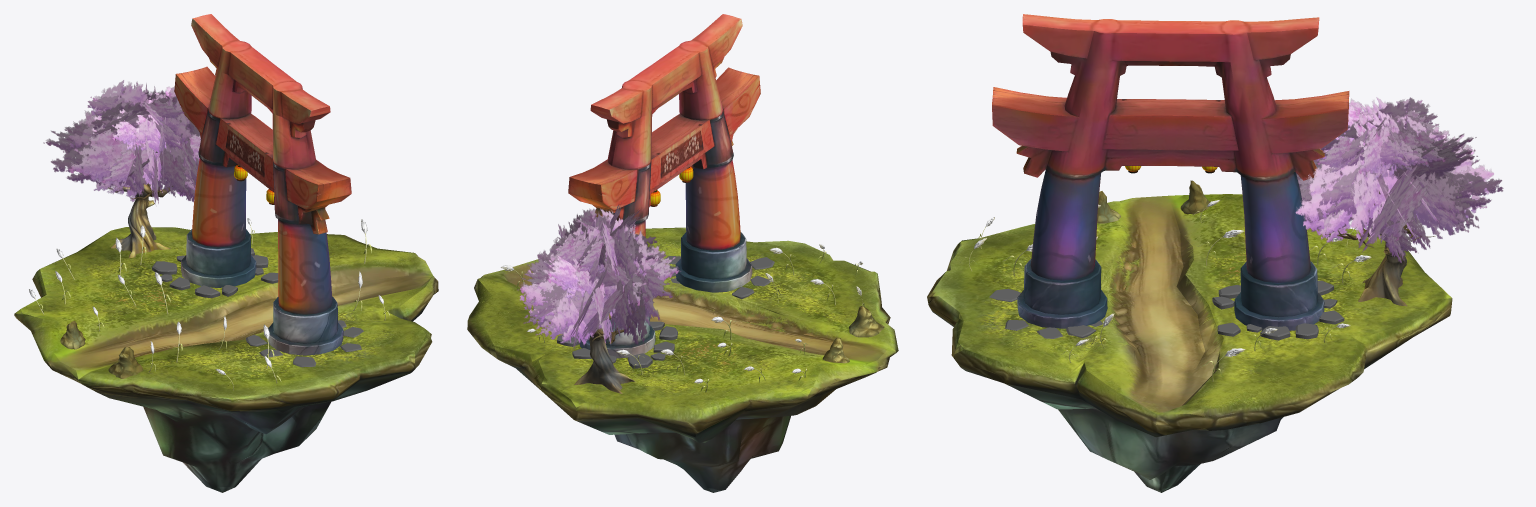
Rendered from island.glb.
3 views of the same model, side by side, from view 1: azimuth 30°, elevation 25°; view 2: azimuth 150°, elevation 25°; view 3: azimuth 270°, elevation 25° (orthographic). The views are drawn at different scales.
Visible parts, largest first — view 1: tierra, portal, lajas, sakuraplano009, sakura, RetopoGroup003, sakuraplano012, sakuraplano036, sakuraplano053, sakuraplano042, sakuraplano050, sakuraplano005 (+5 smaller); view 2: tierra, portal, lajas, sakuraplano066, sakura, sakuraplano040, RetopoGroup003, sakuraplano015, sakuraplano046, sakuraplano014, sakuraplano082, sakuraplano042 (+8 smaller); view 3: tierra, portal, lajas, sakuraplano008, sakura, sakuraplano043, sakuraplano003, sakuraplano054, sakuraplano015, sakuraplano007, sakuraplano044, sakuraplano045 (+10 smaller).
Part boxes in pixels (x1=…): tierra: x1=14, y1=227, x2=438, y2=492; portal: x1=174, y1=14, x2=351, y2=355; lajas: x1=152, y1=248, x2=363, y2=367; sakuraplano009: x1=65, y1=126, x2=150, y2=201; sakura: x1=108, y1=183, x2=172, y2=258; RetopoGroup003: x1=60, y1=321, x2=142, y2=378; sakuraplano012: x1=156, y1=148, x2=189, y2=197; sakuraplano036: x1=100, y1=149, x2=156, y2=187; sakuraplano053: x1=90, y1=80, x2=148, y2=115; sakuraplano042: x1=51, y1=143, x2=113, y2=188; sakuraplano050: x1=160, y1=96, x2=191, y2=146; sakuraplano005: x1=43, y1=121, x2=94, y2=159; tierra: x1=467, y1=227, x2=898, y2=492; portal: x1=568, y1=14, x2=760, y2=358; lajas: x1=557, y1=256, x2=774, y2=368; sakuraplano066: x1=573, y1=208, x2=650, y2=320; sakura: x1=549, y1=313, x2=635, y2=393; sakuraplano040: x1=535, y1=286, x2=602, y2=343; RetopoGroup003: x1=822, y1=306, x2=884, y2=363; sakuraplano015: x1=551, y1=291, x2=590, y2=345; sakuraplano046: x1=519, y1=277, x2=565, y2=335; sakuraplano014: x1=546, y1=247, x2=584, y2=297; sakuraplano082: x1=569, y1=213, x2=606, y2=284; sakuraplano042: x1=624, y1=287, x2=647, y2=344; tierra: x1=927, y1=194, x2=1452, y2=492; portal: x1=992, y1=14, x2=1349, y2=330; lajas: x1=989, y1=280, x2=1344, y2=340; sakuraplano008: x1=1295, y1=140, x2=1397, y2=232; sakura: x1=1325, y1=191, x2=1435, y2=306; sakuraplano043: x1=1350, y1=155, x2=1390, y2=243; sakuraplano003: x1=1408, y1=171, x2=1469, y2=238; sakuraplano054: x1=1357, y1=122, x2=1396, y2=181; sakuraplano015: x1=1432, y1=171, x2=1503, y2=209; sakuraplano007: x1=1377, y1=173, x2=1428, y2=243; sakuraplano044: x1=1319, y1=166, x2=1375, y2=215; sakuraplano045: x1=1358, y1=164, x2=1418, y2=252.
Size of the model in its own units: 227 by 234 by 254.
10 materials, 9 textured.
